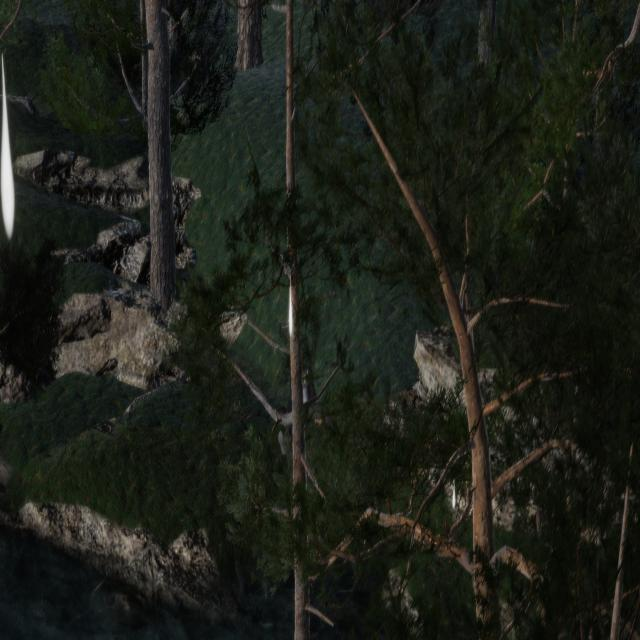Human: (266, 351, 327, 471)
